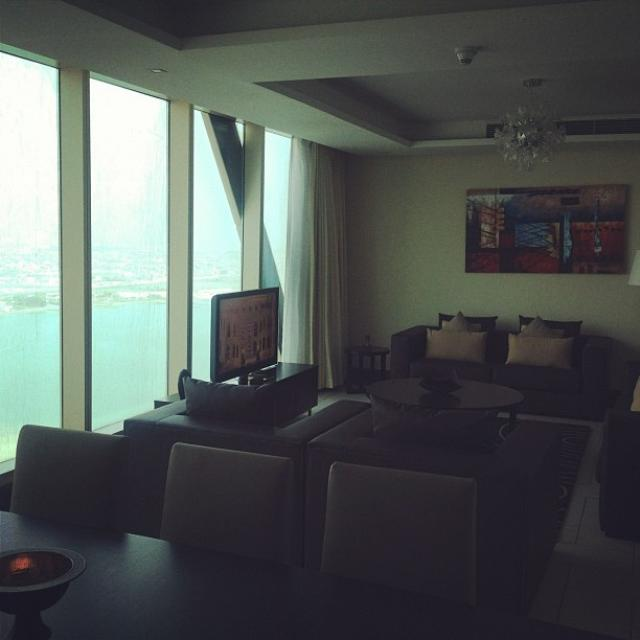Table: (0, 485, 520, 640), (359, 361, 535, 452), (208, 351, 334, 423)
chair: (387, 283, 628, 421), (321, 438, 470, 607), (152, 421, 293, 574), (12, 398, 133, 554)
